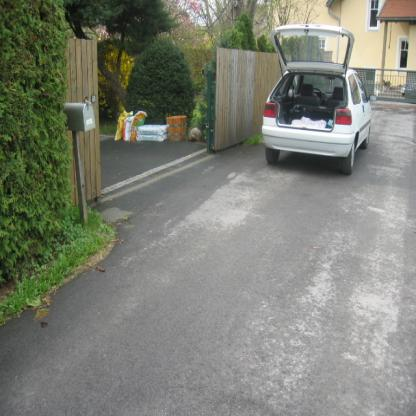car: (263, 24, 376, 173)
